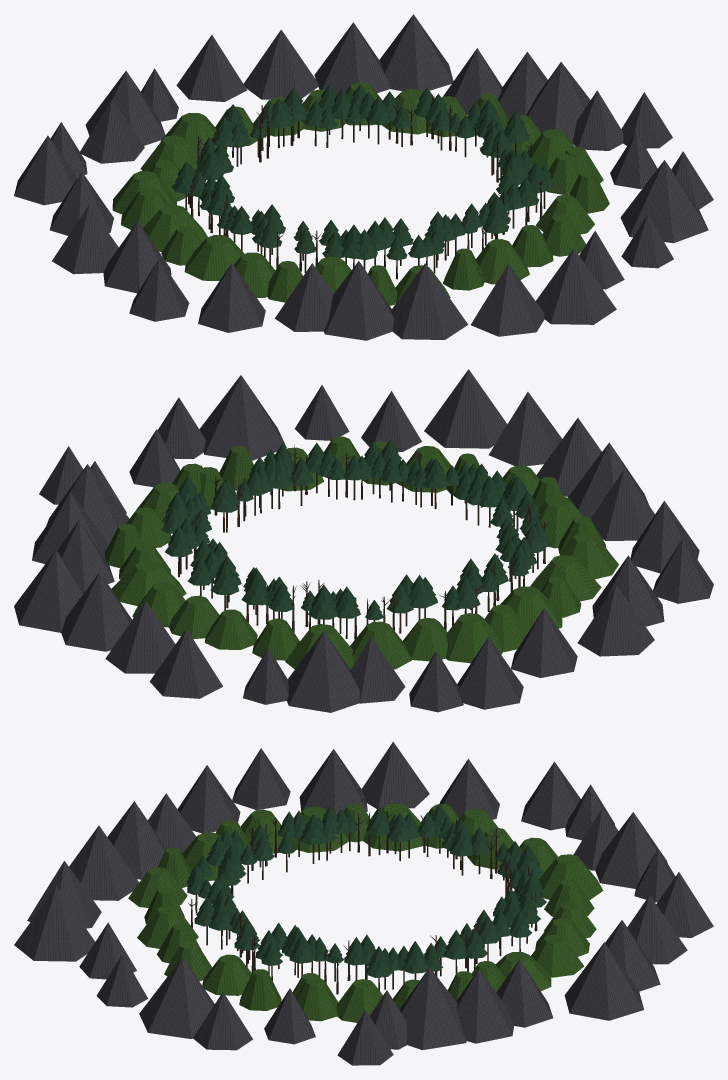
The model's file is panorama_bosque.obj.
The picture shows the model from 3 angles, top to bottom: view 1: azimuth 30°, elevation 25°; view 2: azimuth 150°, elevation 25°; view 3: azimuth 270°, elevation 25°; orthographic projection. The views are drawn at different scales.
Parts seen in each view (by area): view 1: panorama_bosque; view 2: panorama_bosque; view 3: panorama_bosque.
Part boxes in pixels (x1=…): panorama_bosque: x1=14, y1=14, x2=713, y2=340; panorama_bosque: x1=14, y1=369, x2=713, y2=712; panorama_bosque: x1=14, y1=741, x2=713, y2=1065.
Size of the model in its own units: 434 by 45.47 by 452.
Materials: 4 (4 with a texture image).
